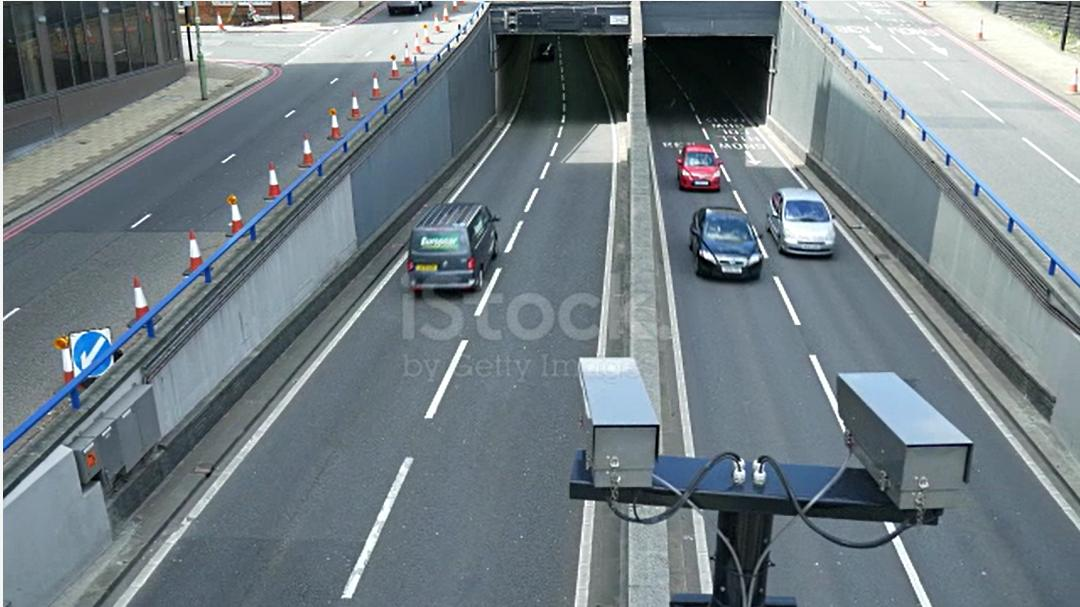car: (385, 205, 527, 322), (683, 195, 779, 316), (763, 181, 857, 272), (657, 131, 734, 210)
